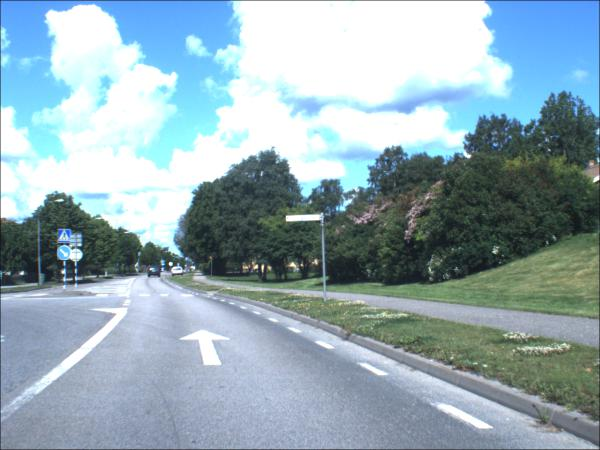PASS_RIGHT_SIDE: (58, 246, 74, 262), (163, 265, 167, 267)
PEDESTRIAN_CROSSING: (59, 230, 73, 245), (162, 261, 166, 265)
PRIORITY_ROAD: (170, 263, 175, 268)
